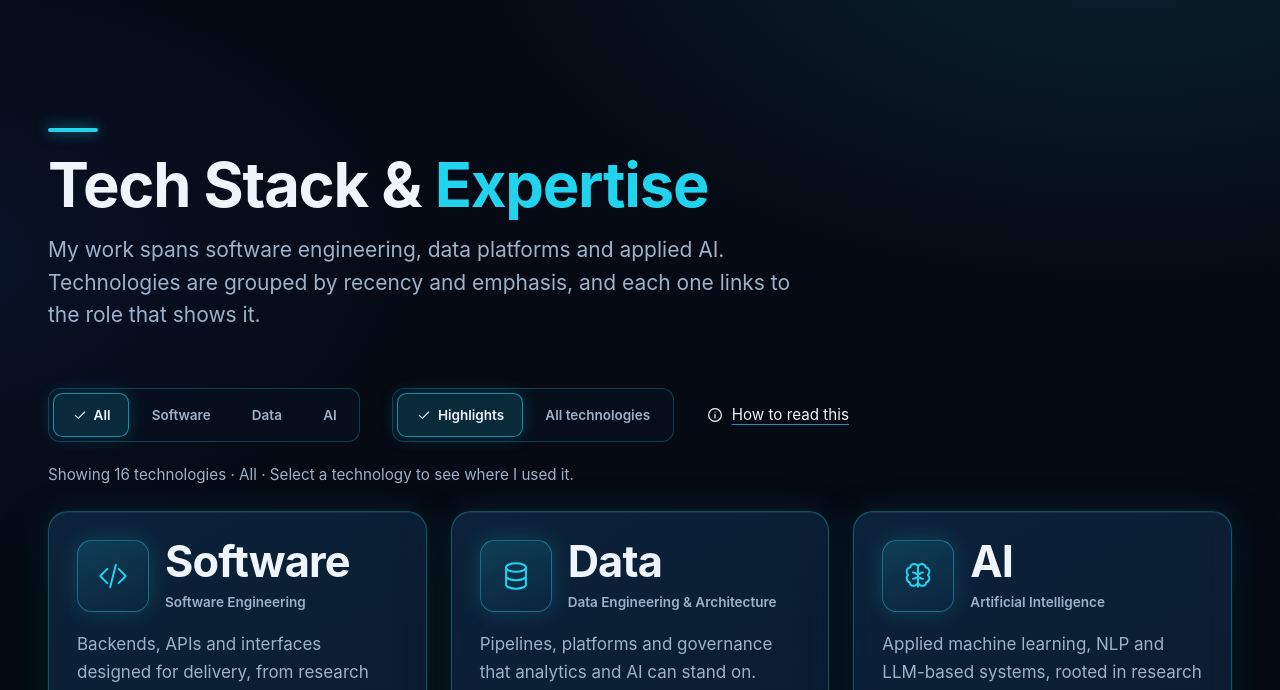
Test: Scenario 3: choosing "Data" shows only Data, keyboard accessible › filters with a click and announces the status
Click the button "Data" at (267, 415), box [233,393,300,437]
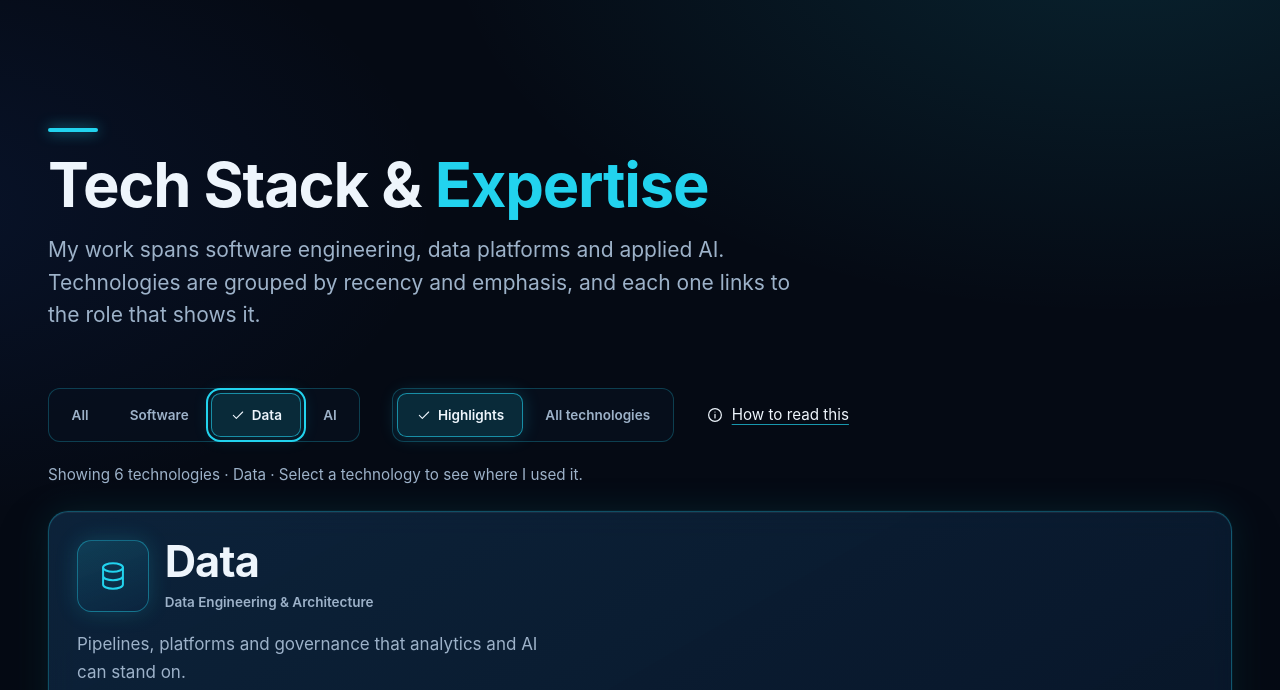
Now the message shows "Showing 6 technologies · Data", box [48,465,266,484]
